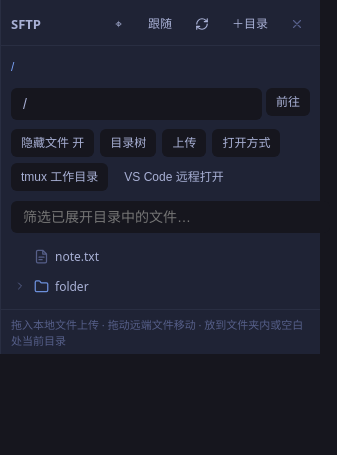
Test: reports failed remote moves and keeps the source visible
Check: the text "note.txt" is shown, box [55,248,99,264]
Press the mouse on the text "note.txt" at (66, 256), box [34,248,99,264]
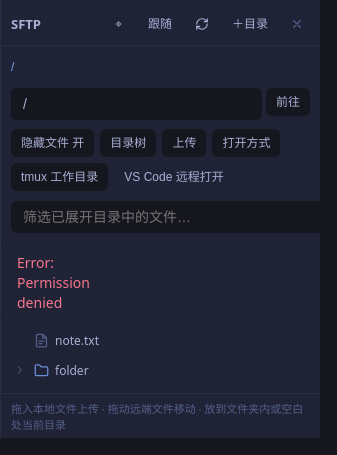
Check: the text "note.txt" is shown, box [34,332,99,348]
Check: the text "Error: Permission denied" is shown, box [1,241,320,325]
